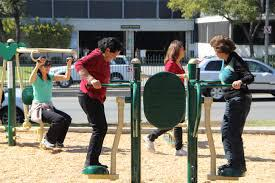Person: (70, 35, 130, 183), (204, 32, 260, 182), (142, 31, 196, 160), (25, 50, 79, 156)
